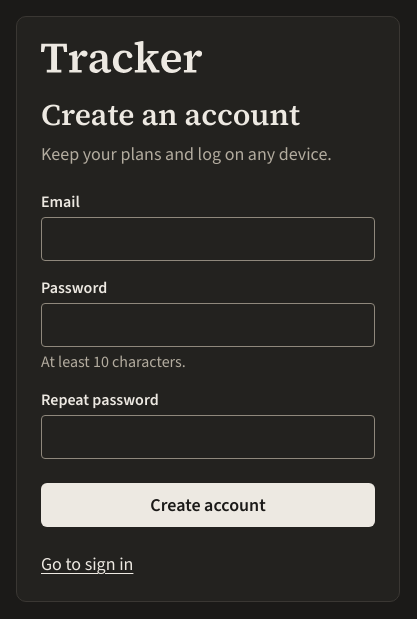
Test: creating an account › goes back to sign in and takes #/signup out of the address bar
The image size is (417, 619).
Click the link "Go to sign in". click: (87,564)
box: left=41, top=552, right=133, bottom=576
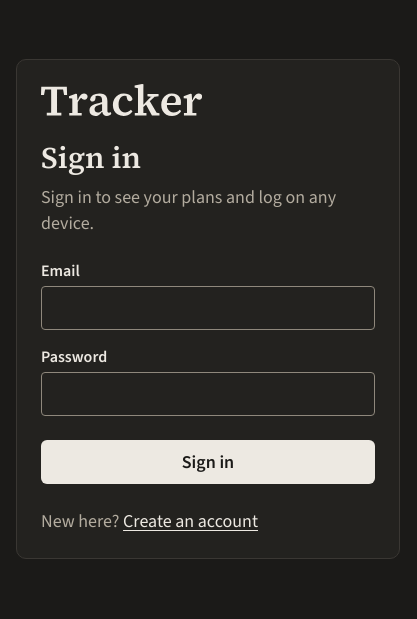
Check: the heading "Sign in" is shown, box left=41, top=137, right=141, bottom=178
